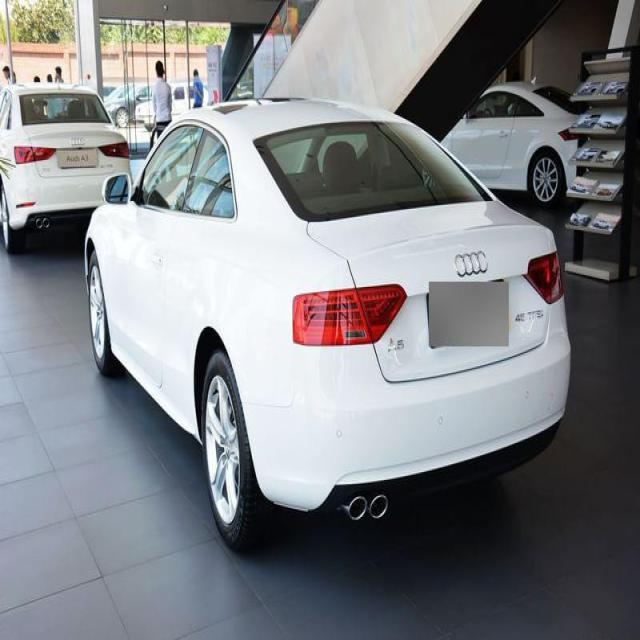back_glass: (256, 116, 489, 222)
back_left_side_light: (290, 280, 409, 349)
back_right_side_light: (523, 247, 566, 307)
door: (154, 135, 214, 410)
front_left_side_door: (109, 118, 208, 392)
front_left_side_mirror: (102, 172, 136, 211)
rear_bumper: (240, 287, 574, 513)
wheel: (200, 349, 277, 551), (88, 254, 122, 379)
